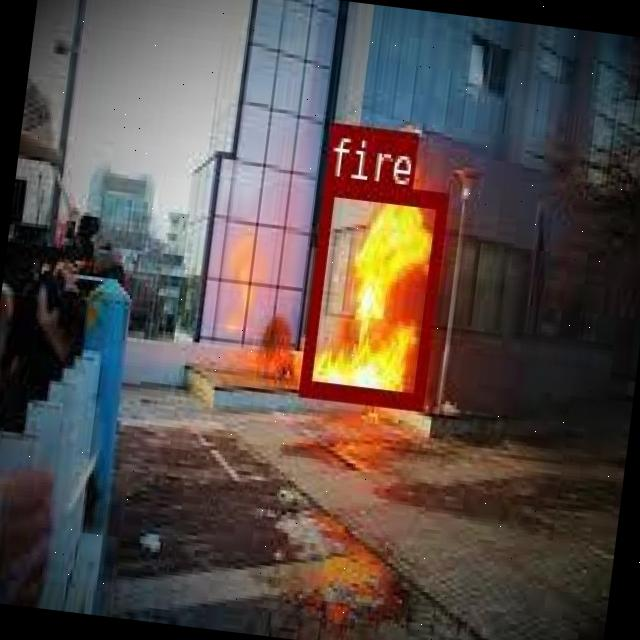fire: (298, 176, 448, 406)
